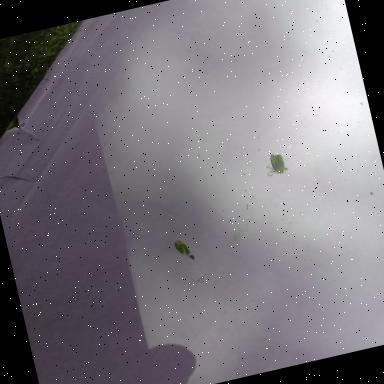pbw: (263, 150, 289, 178), (174, 238, 192, 260)
